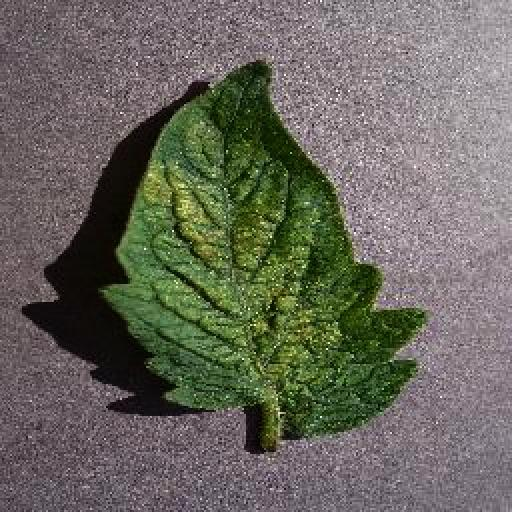disease_tomato: (100, 54, 426, 436)
